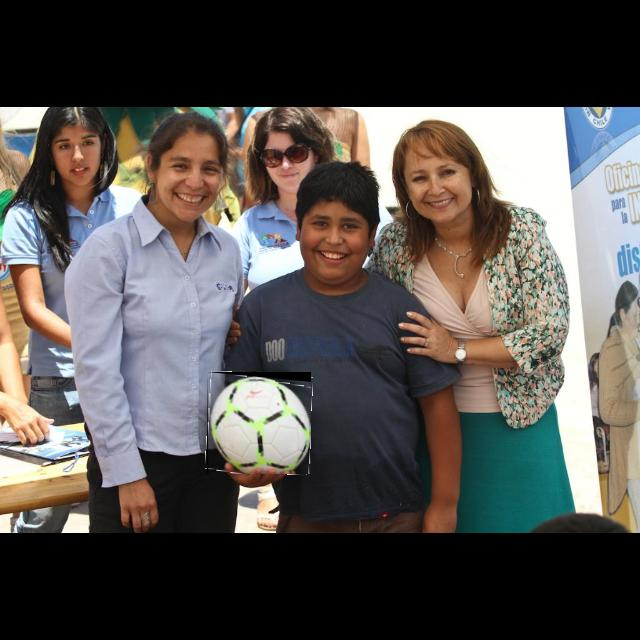Football: (207, 372, 311, 474)
